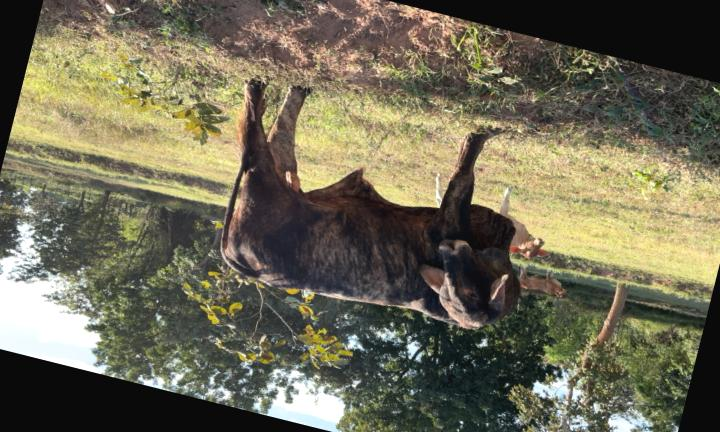Charolais: (221, 81, 519, 328)
